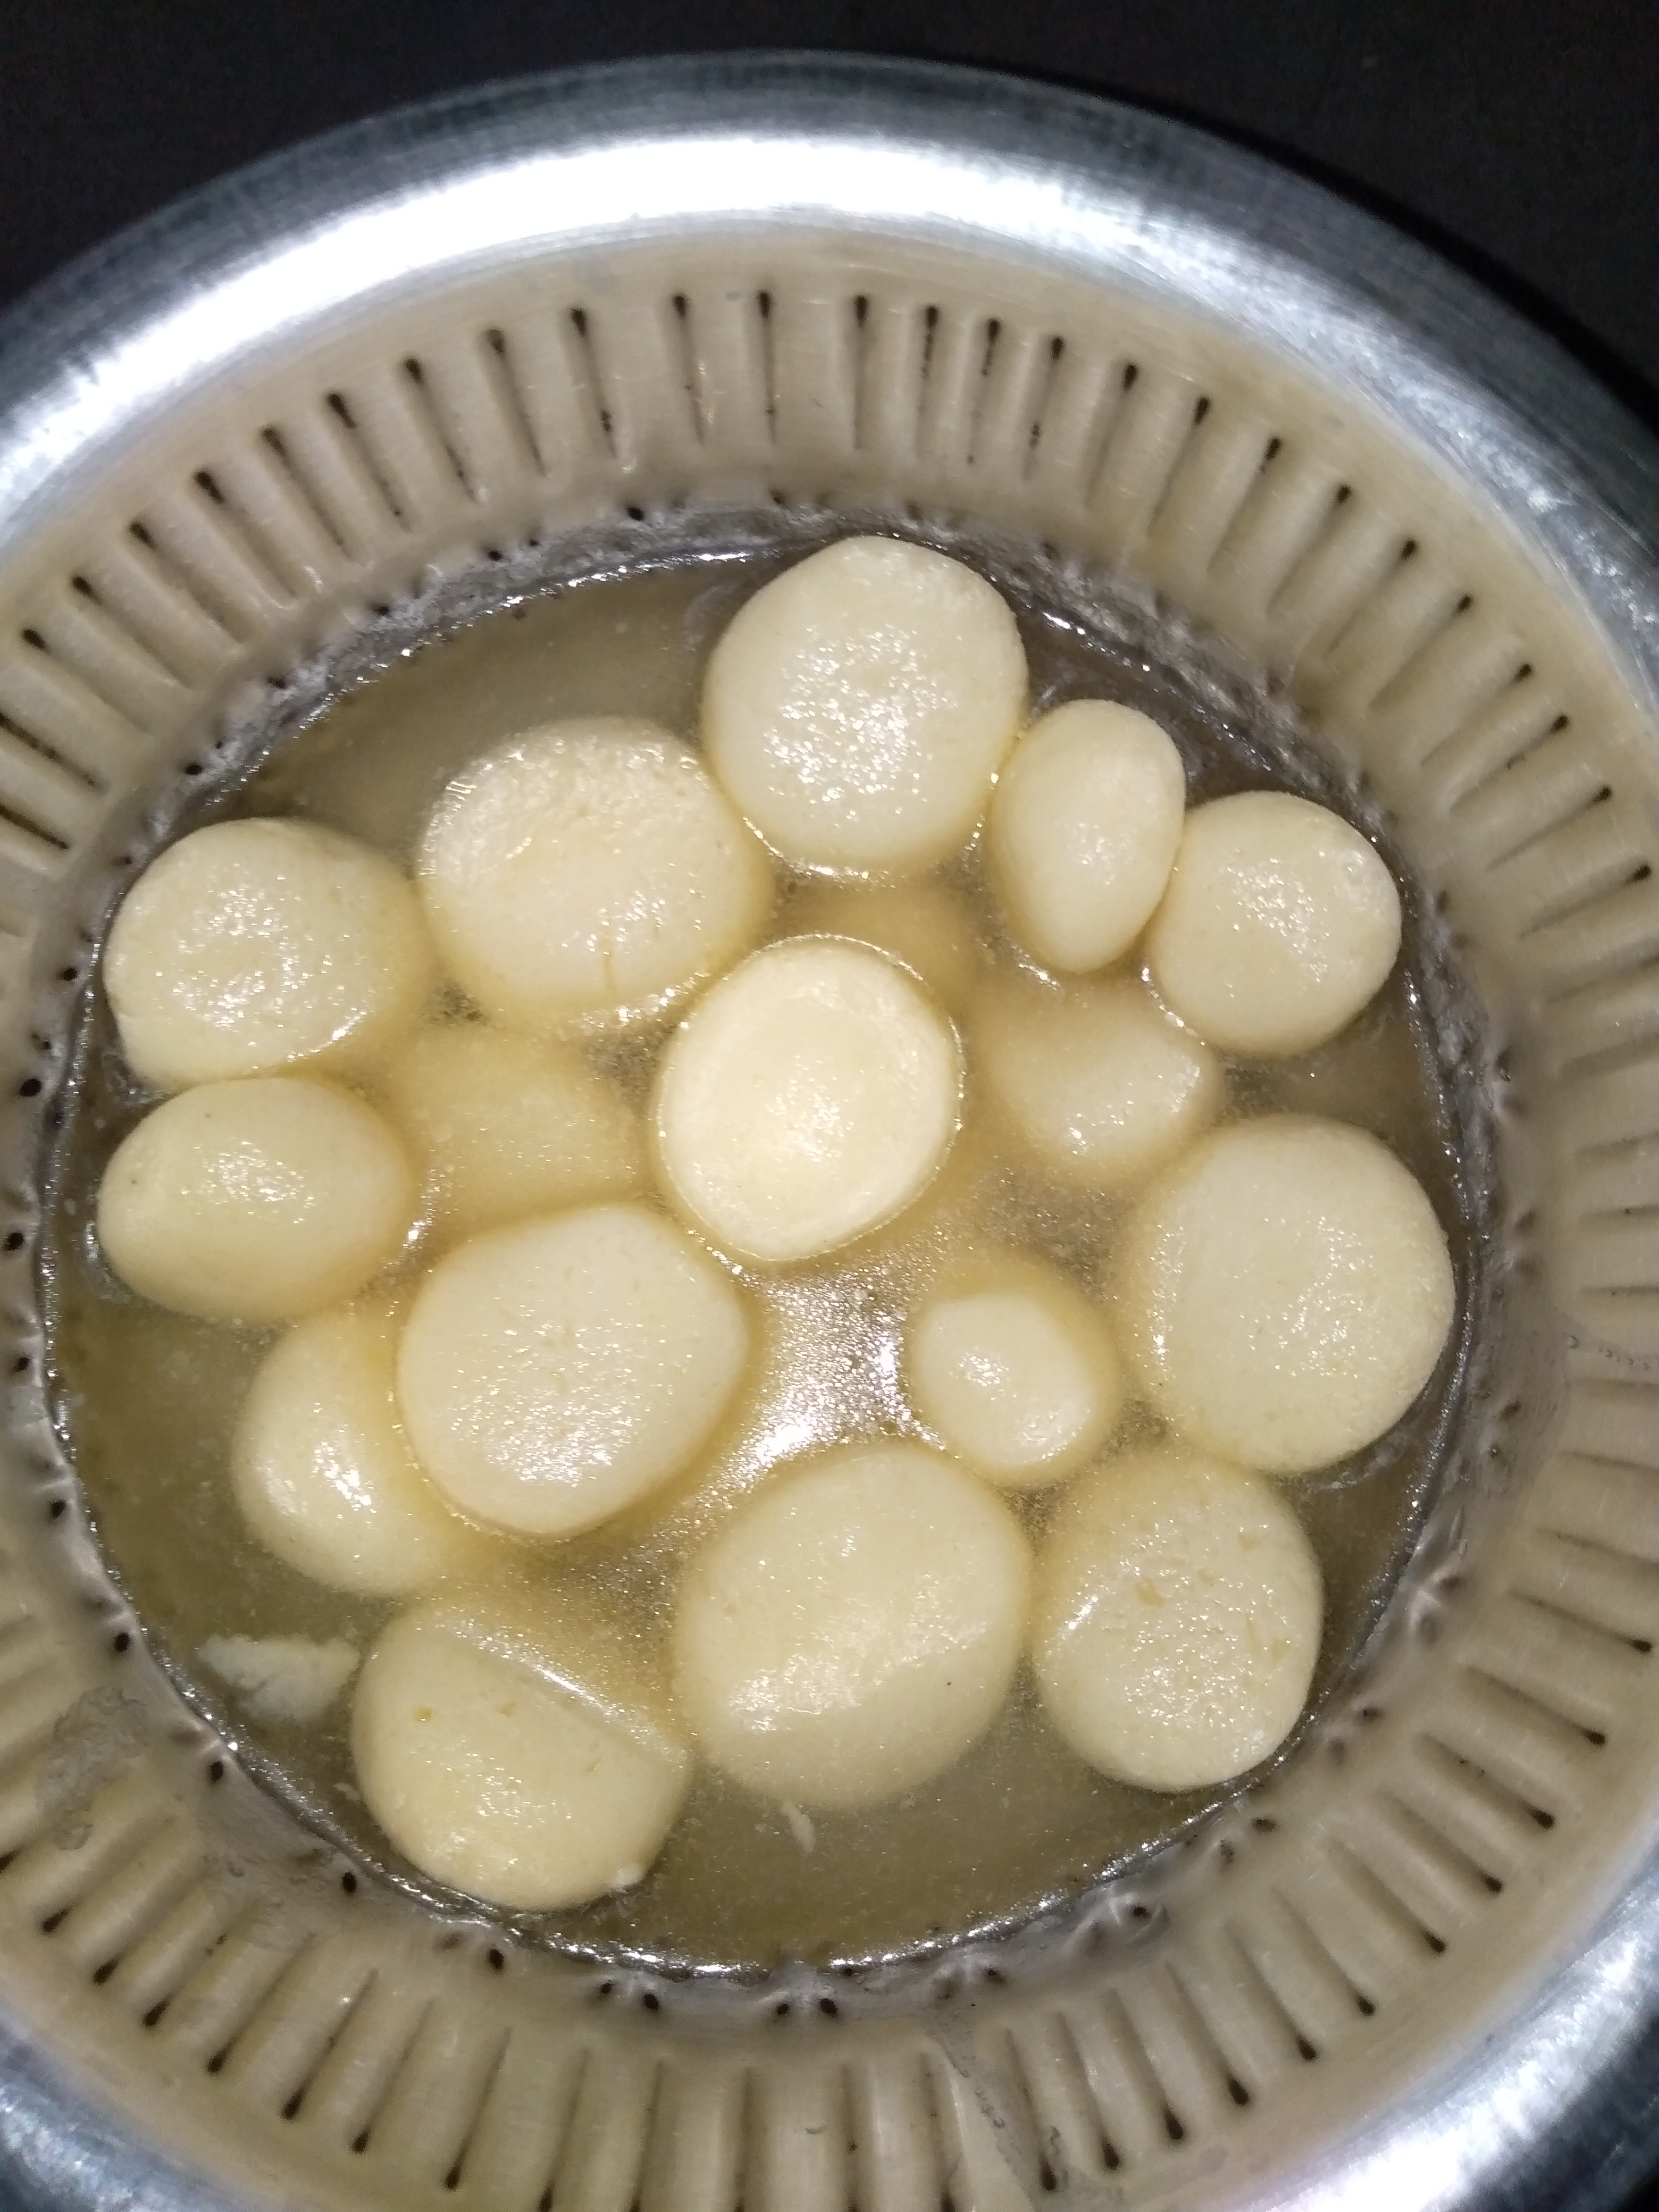food: (19, 510, 1492, 2000)
